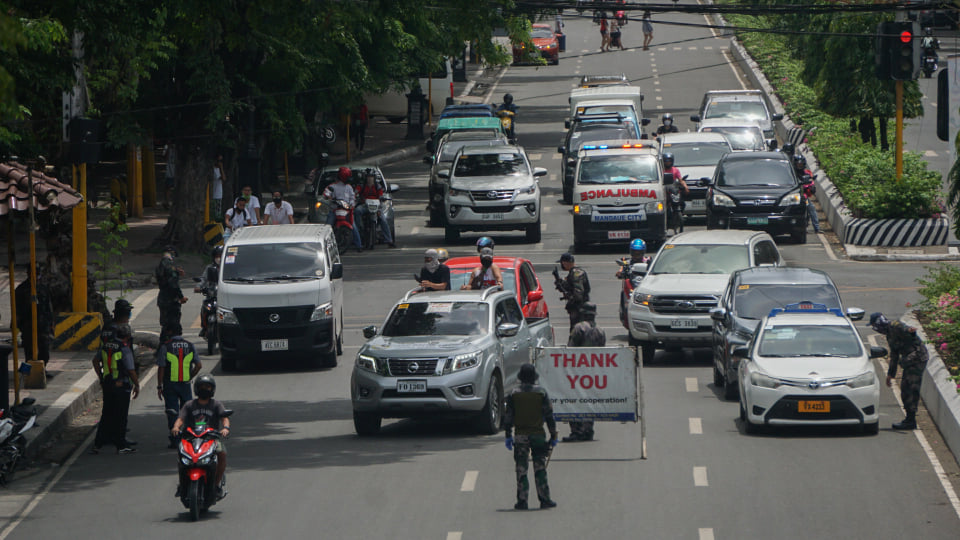bike: (171, 427, 224, 518), (319, 193, 357, 250), (358, 197, 383, 247)
car: (353, 291, 556, 427), (628, 222, 788, 357), (215, 224, 341, 369), (739, 312, 880, 430), (570, 143, 666, 245), (704, 152, 808, 240), (452, 147, 543, 242)
person: (504, 365, 562, 509), (871, 312, 939, 432), (97, 328, 140, 454), (157, 325, 202, 438), (552, 255, 603, 348), (570, 304, 602, 442), (184, 374, 225, 448), (413, 250, 450, 293), (265, 191, 293, 225), (222, 199, 251, 226)
pole: (64, 22, 97, 347), (895, 81, 903, 177)
traffic light: (890, 22, 916, 79)
